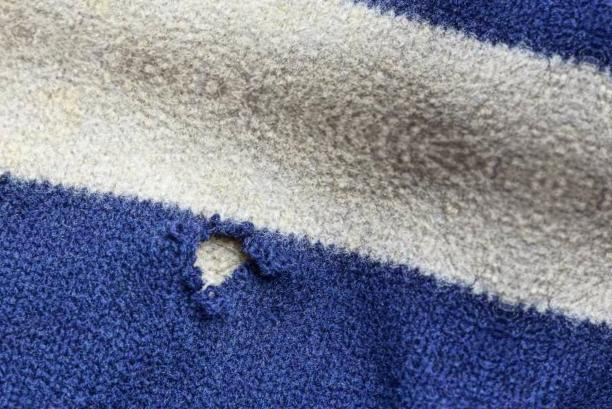hole: (187, 224, 267, 304)
